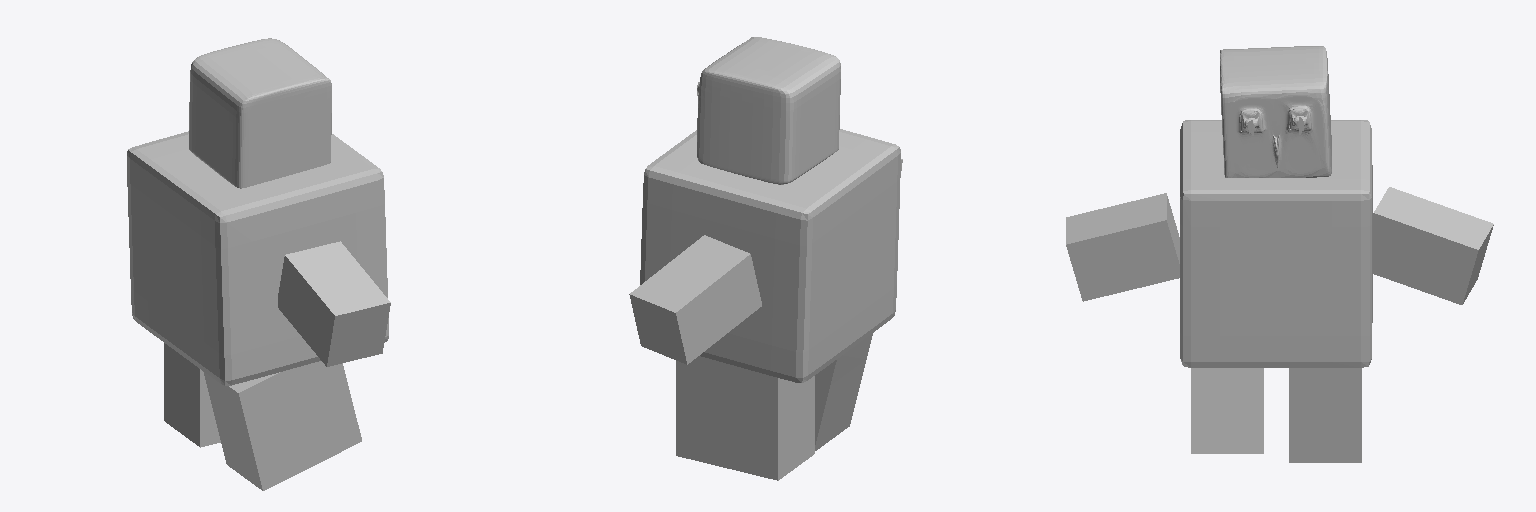
3 views of the same model, side by side, from view 1: azimuth 30°, elevation 25°; view 2: azimuth 150°, elevation 25°; view 3: azimuth 270°, elevation 25° (orthographic).
Visible parts, largest first — view 1: Cube_Cube.001, Cube.001_Cube.002, Cube.002_Cube.003, Cube.005_Cube.007, Cube.003_Cube.004; view 2: Cube_Cube.001, Cube.001_Cube.002, Cube.003_Cube.004, Cube.004_Cube.005, Cube.002_Cube.003; view 3: Cube_Cube.001, Cube.001_Cube.002, Cube.004_Cube.005, Cube.005_Cube.007, Cube.003_Cube.004, Cube.002_Cube.003.
Part boxes in pixels (x1,y1,x2,y2): Cube_Cube.001: (127, 131, 388, 385); Cube.001_Cube.002: (189, 38, 331, 188); Cube.002_Cube.003: (203, 361, 361, 490); Cube.005_Cube.007: (278, 241, 390, 366); Cube.003_Cube.004: (164, 343, 220, 447); Cube_Cube.001: (640, 129, 900, 382); Cube.001_Cube.002: (697, 37, 840, 184); Cube.003_Cube.004: (676, 356, 814, 480); Cube.004_Cube.005: (629, 235, 761, 364); Cube.002_Cube.003: (815, 333, 872, 450); Cube_Cube.001: (1180, 120, 1372, 367); Cube.001_Cube.002: (1220, 46, 1331, 177); Cube.004_Cube.005: (1373, 187, 1493, 304); Cube.005_Cube.007: (1066, 193, 1179, 301); Cube.003_Cube.004: (1289, 368, 1361, 462); Cube.002_Cube.003: (1191, 368, 1263, 453).
Bounding box in the file's own units: 1.5 × 3.23 × 3.24.